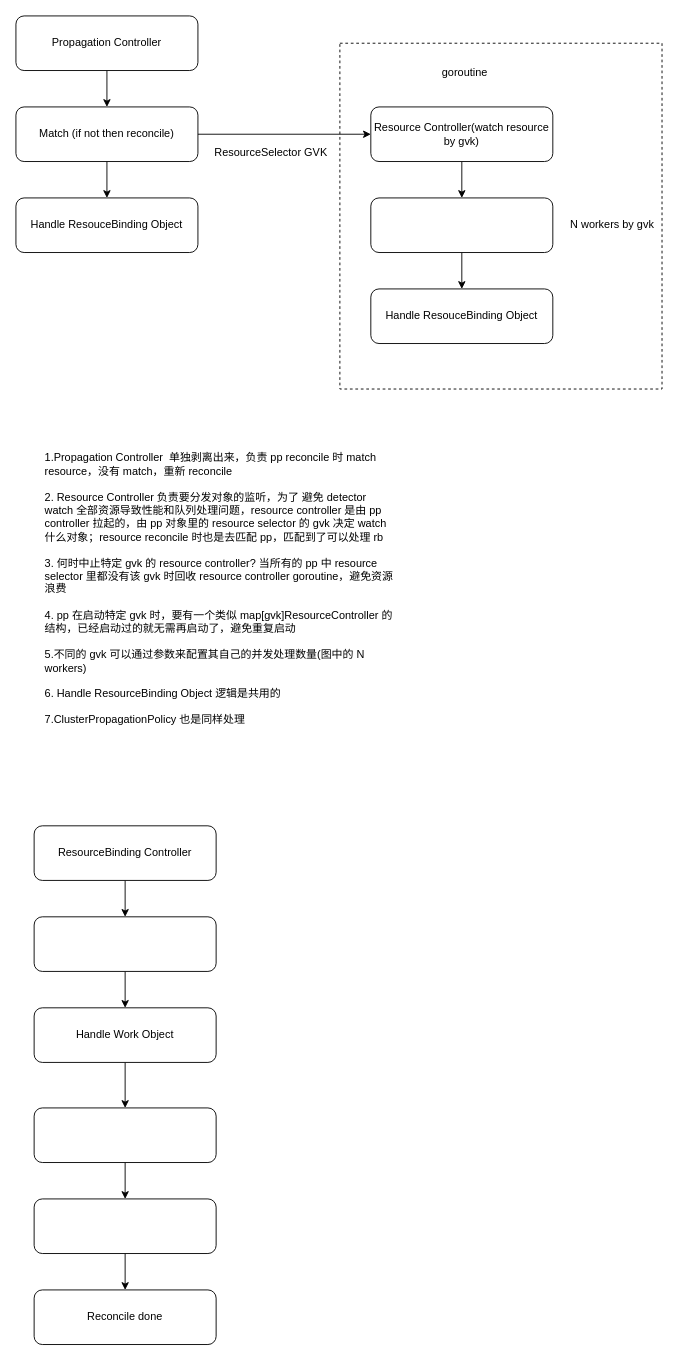
Some shapes in this 678 by 1360 pixel diagram are drawn without their labels. The box of each missing label's shape, as (x1, y1, x2, y2) in pixels:
Match PropagationPolicy: (370, 197, 553, 253)
Reconcile: (33, 916, 216, 971)
UpdateRbStatus(aggregate from work): (33, 1107, 216, 1163)
UpdateResourceStatus(aggregate from work): (33, 1198, 216, 1254)
